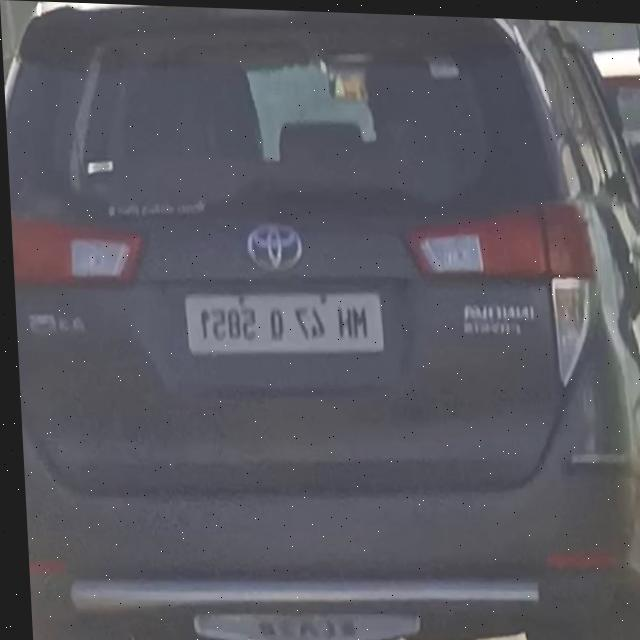plate: (174, 281, 389, 364)
